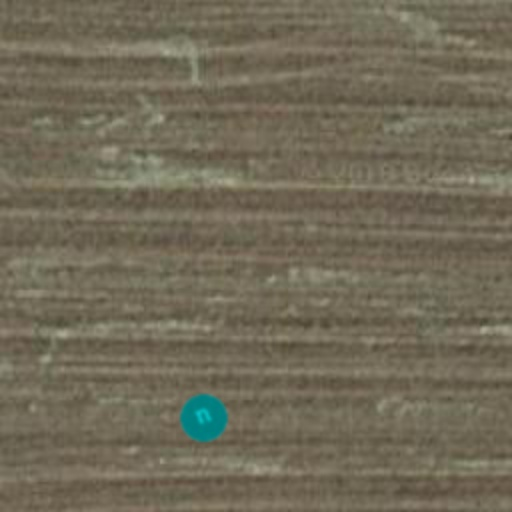circle: (172, 386, 236, 450)
